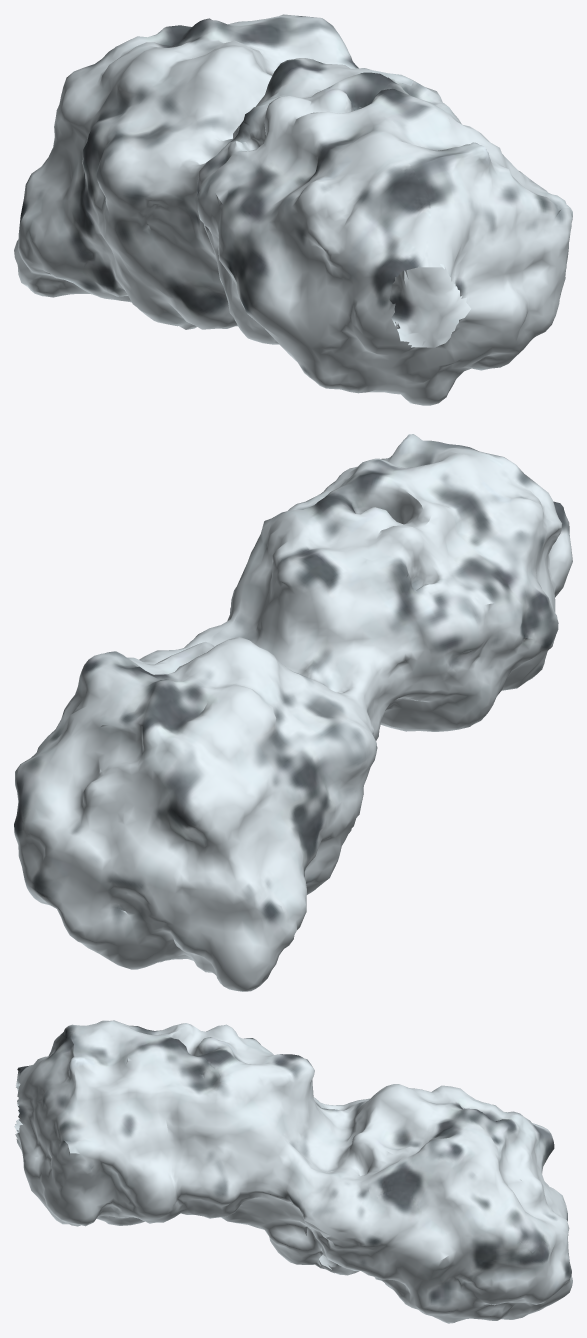
File: Niflheim_Snow_Cave_Optimized.glb
3 renders of one model, top to bottom at view 1: azimuth 30°, elevation 25°; view 2: azimuth 150°, elevation 25°; view 3: azimuth 270°, elevation 25°, orthographic. The views are drawn at different scales.
Visible parts, largest first — view 1: Niflheim Snow Cave — Giant Scale; view 2: Niflheim Snow Cave — Giant Scale; view 3: Niflheim Snow Cave — Giant Scale.
Boxes of the visible parts, box(x1,y1,x2,y2) form: Niflheim Snow Cave — Giant Scale: box(14, 14, 572, 405); Niflheim Snow Cave — Giant Scale: box(14, 434, 572, 991); Niflheim Snow Cave — Giant Scale: box(14, 1020, 572, 1323).
Bounding box in the file's own units: 17.36 × 18 × 33.89.
1 material, 1 textured.
